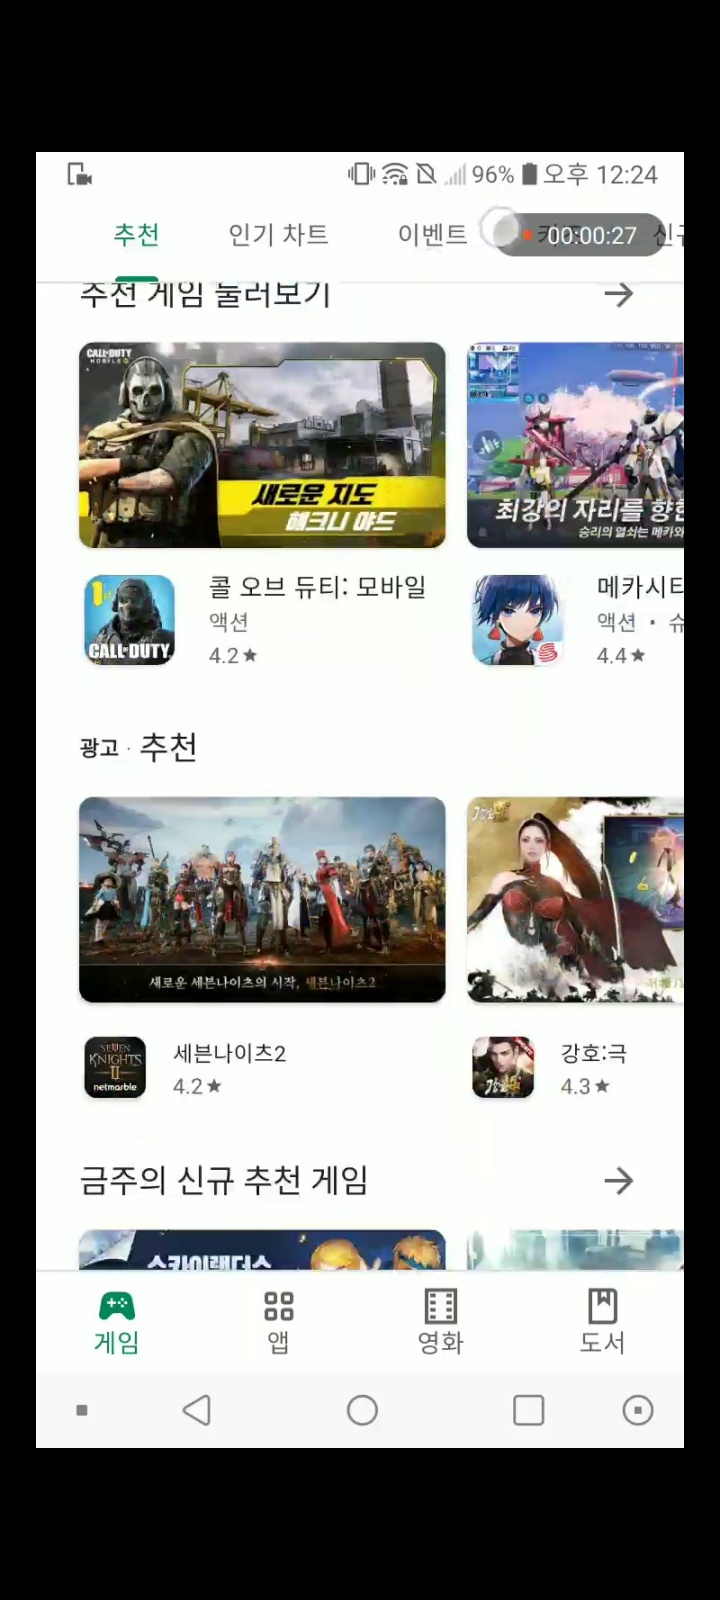Cursor: (477, 205, 522, 251)
